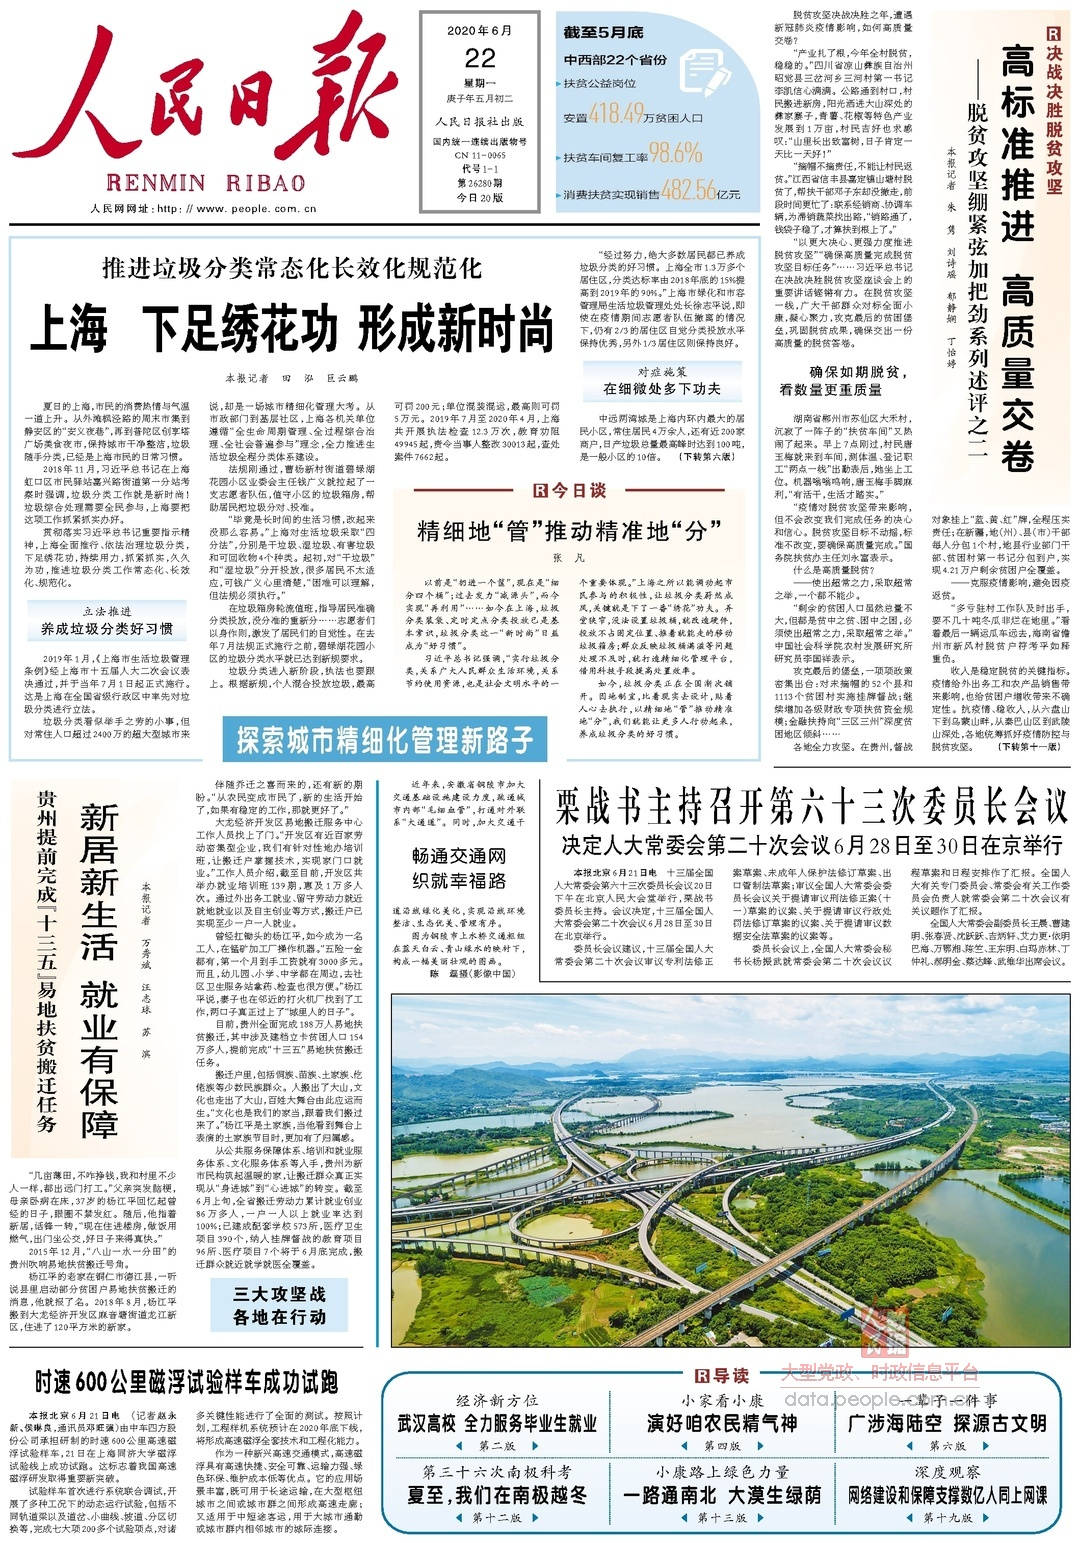pic: (387, 990, 1080, 1357)
